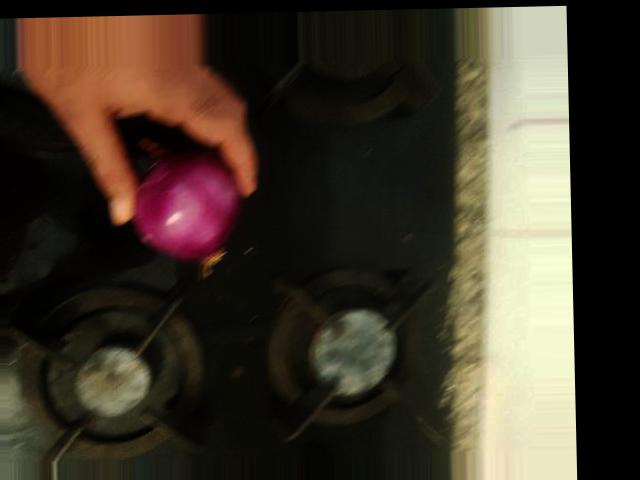onion: (122, 140, 243, 267)
